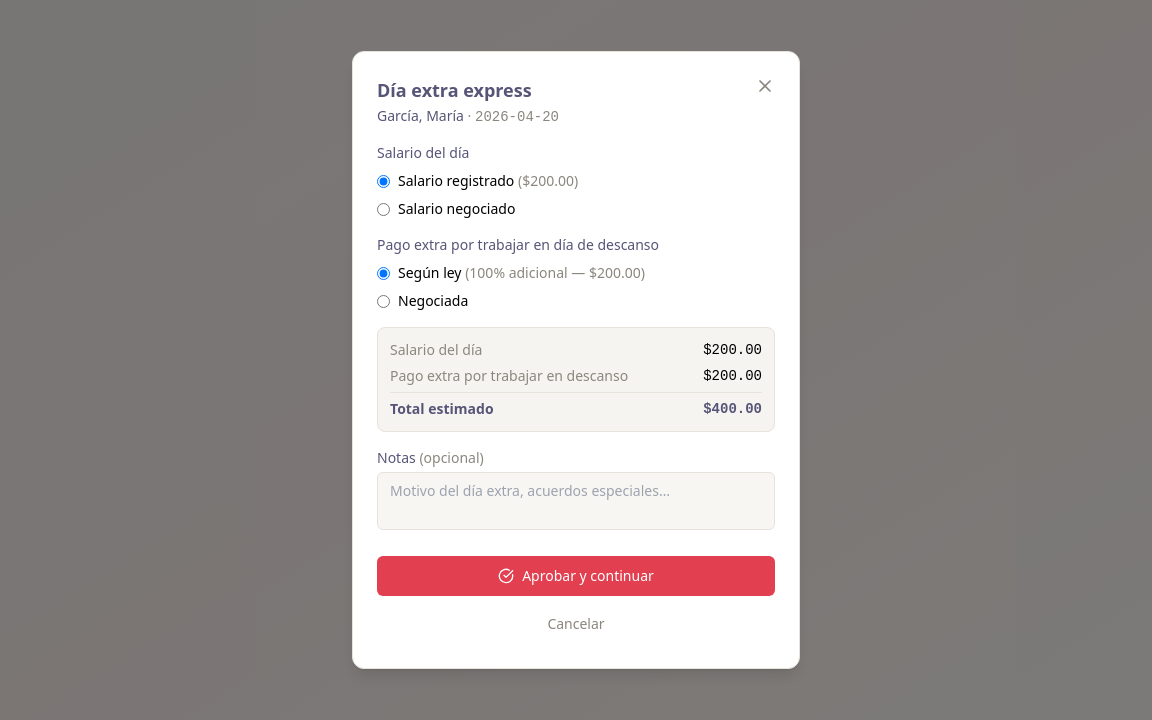
ExtraDayNegotiationDialog — prima modes › shows prima custom inputs when "Negociada" radio is selected
Click the text "Negociada": (433, 301) x1=398 y1=291 x2=468 y2=311
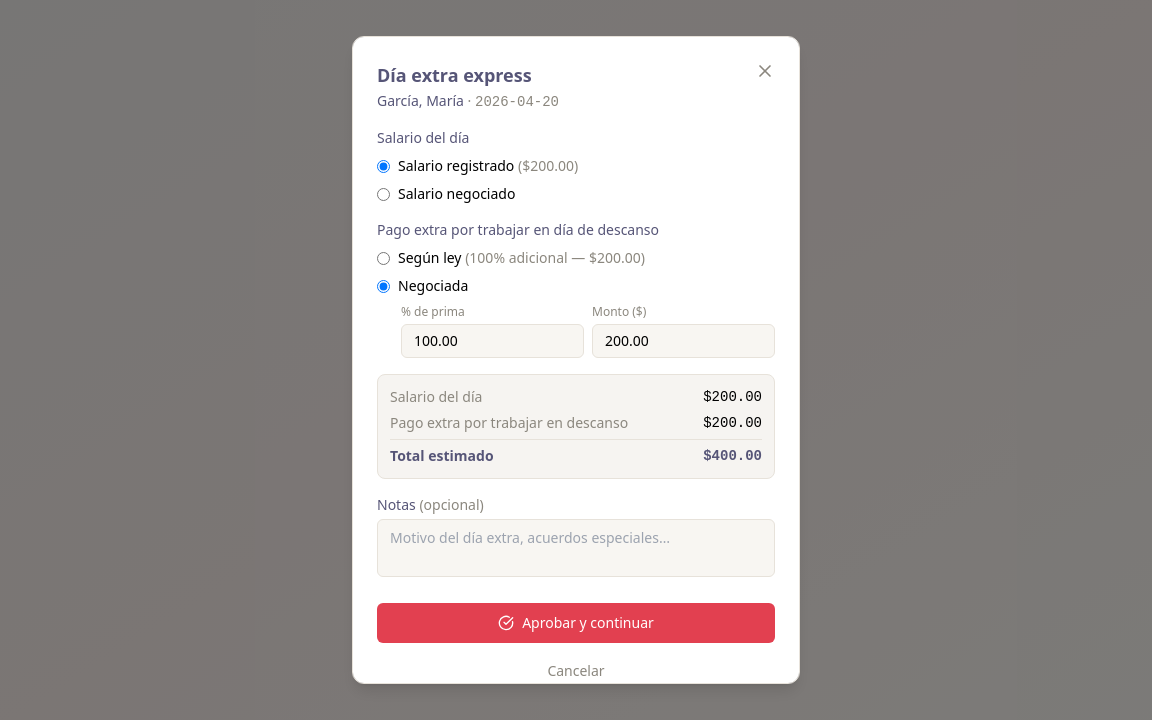
Expected: the text "% de prima" is shown, x1=401 y1=303 x2=465 y2=320
